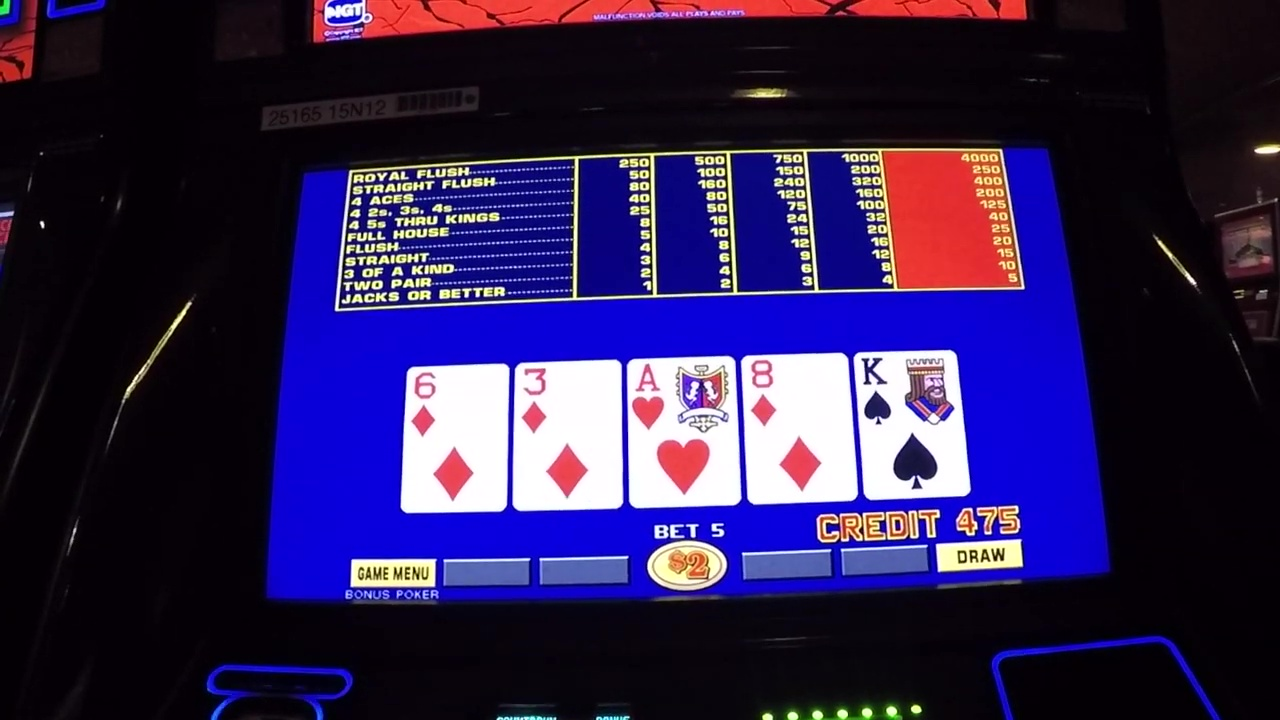D3: (516, 364, 617, 437)
D6: (407, 369, 509, 438)
D8: (745, 356, 848, 432)
HA: (630, 360, 736, 436)
SK: (863, 353, 958, 426)
